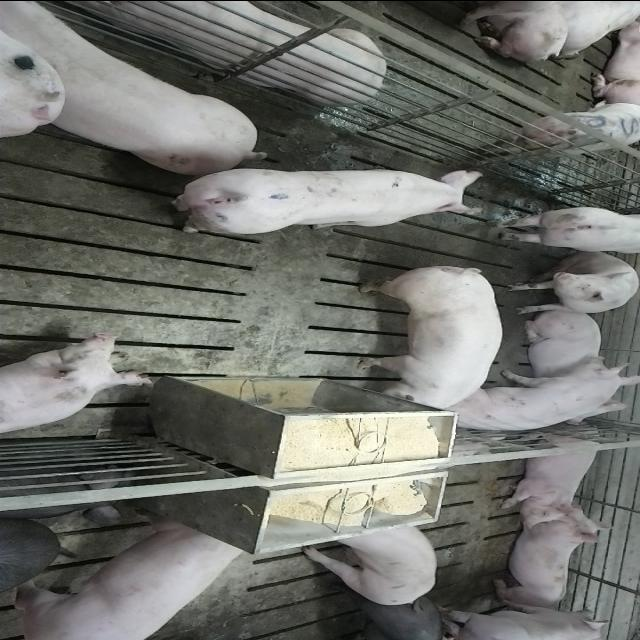Feeding: (350, 268, 500, 414)
Sitting: (454, 358, 640, 435), (509, 251, 639, 315)
Standing: (10, 518, 248, 638), (160, 163, 486, 234), (302, 522, 438, 606), (484, 100, 638, 160), (486, 202, 638, 252), (438, 607, 616, 640), (328, 598, 449, 640)
Sternal_lying: (57, 0, 392, 102), (0, 332, 157, 437), (489, 512, 608, 612), (500, 425, 610, 525), (517, 310, 619, 384)
